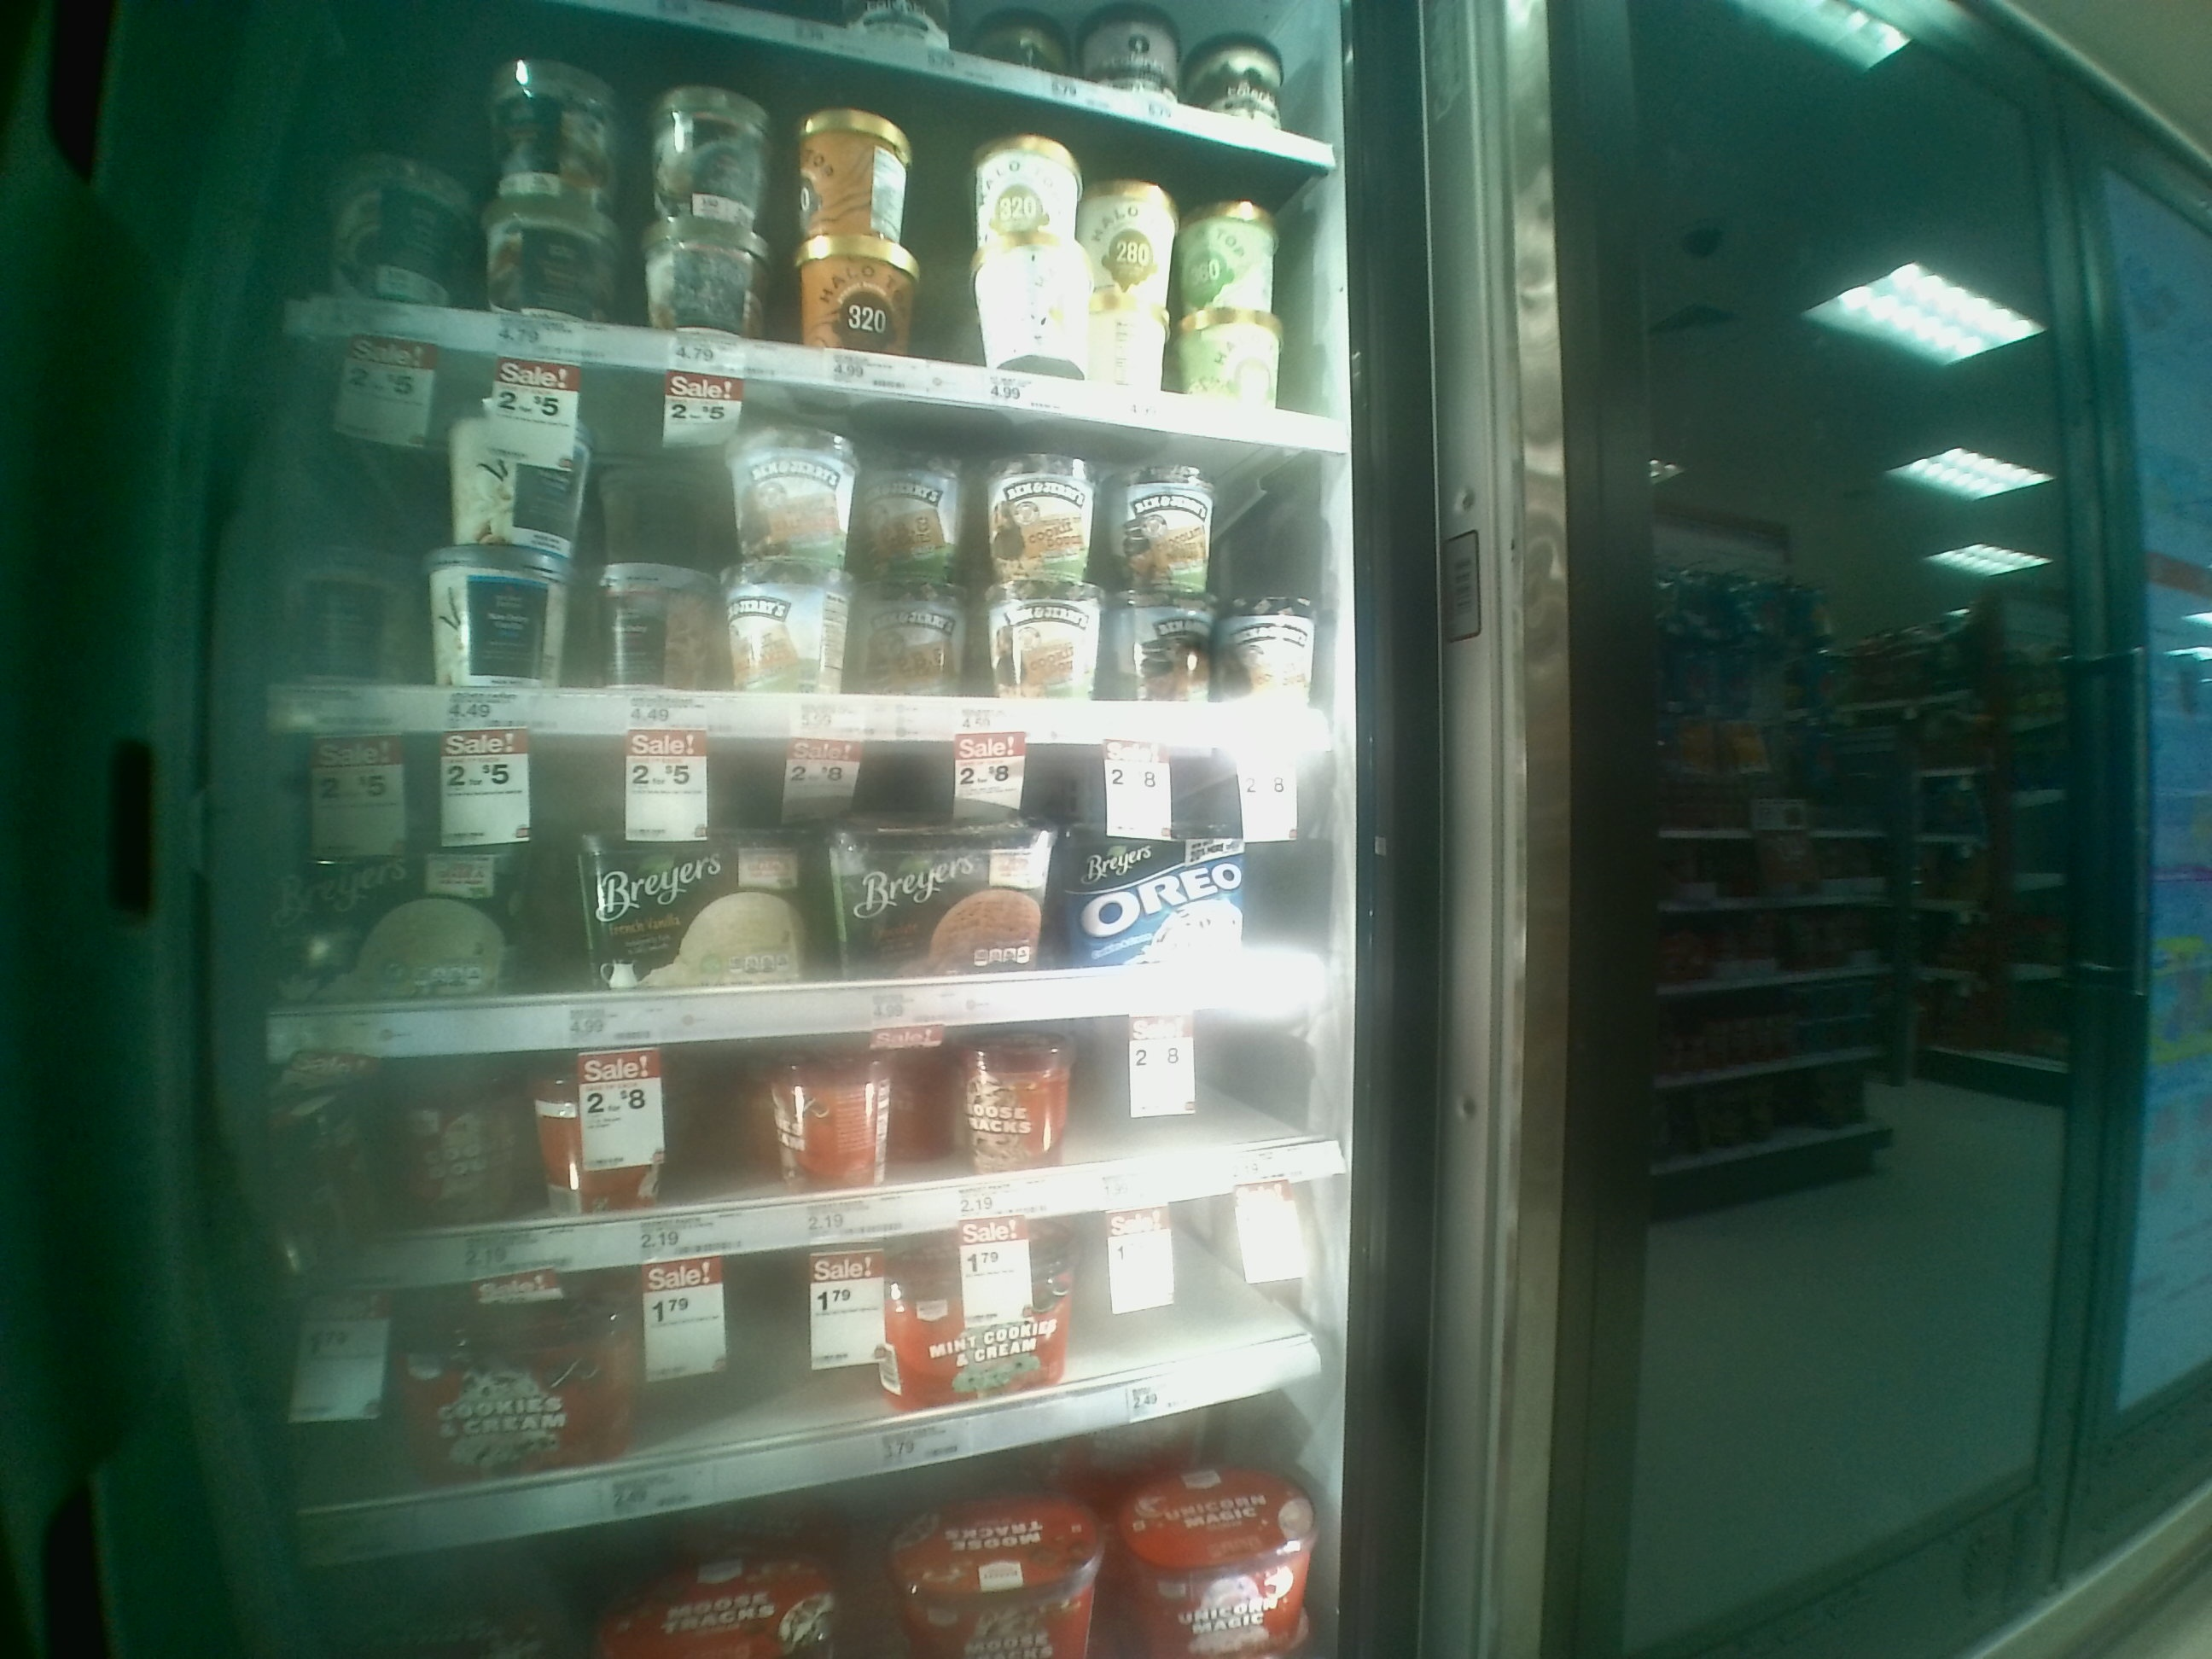shelf: (284, 329, 1350, 728), (270, 732, 1348, 1030), (270, 1037, 1353, 1258)
